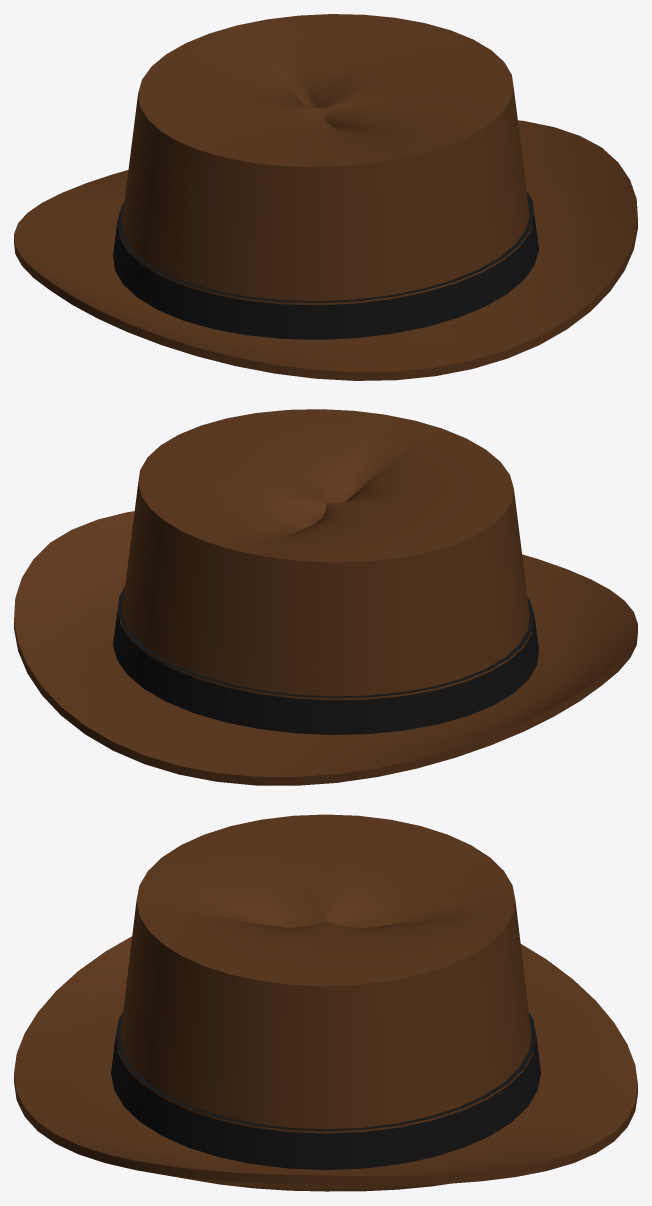
The model's file is hat_fedora.glb.
3 renders of one model, top to bottom at view 1: azimuth 30°, elevation 25°; view 2: azimuth 150°, elevation 25°; view 3: azimuth 270°, elevation 25°, orthographic. The views are drawn at different scales.
Parts seen in each view (by area): view 1: hat_fedora_q; view 2: hat_fedora_q; view 3: hat_fedora_q.
Boxes of the visible parts, x1,y1,x2,y2 form: hat_fedora_q: [14, 14, 637, 380]; hat_fedora_q: [14, 409, 637, 785]; hat_fedora_q: [14, 814, 637, 1191].
Size of the model in its own units: 3.3 by 1.04 by 3.04.
